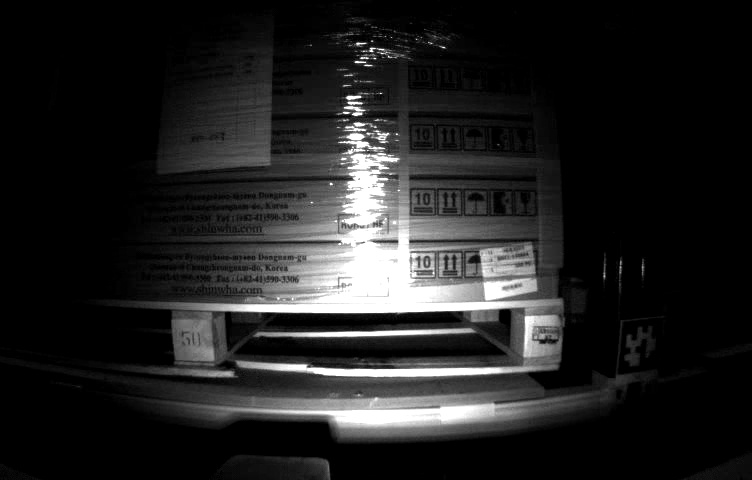True Barcode: (476, 240, 541, 298)
